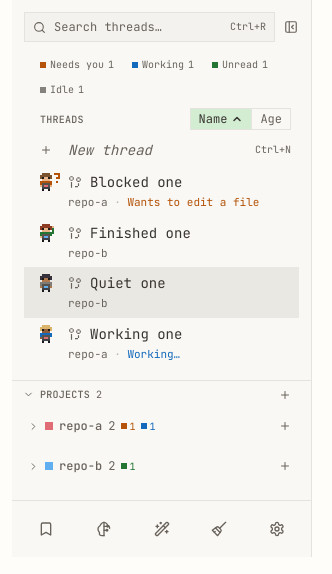
it: Sidebar attention triage › closes a conversation from the context menu: stops it and clears its unread flag
The width and height of the screenshot is (332, 574).
Right-click the text "Finished one" at [140, 232], box [90,224,191,242]
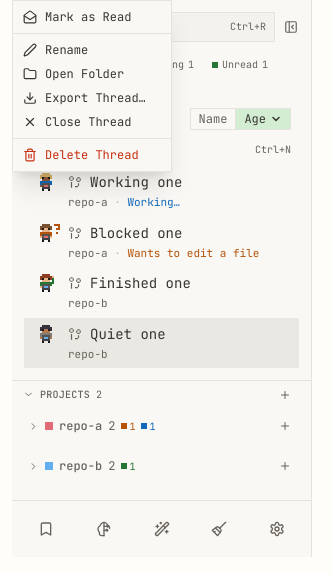
Click the menu item "Close Thread" at [92, 122], box [13,110,171,134]
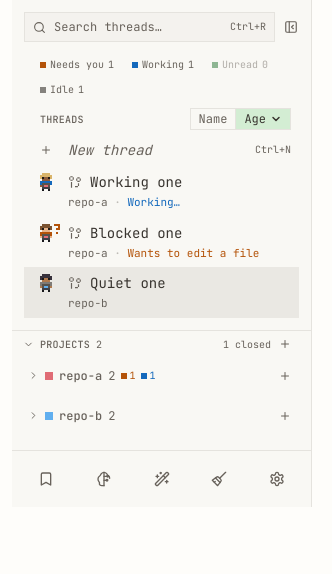
Check: the button "Finished one" is gone
